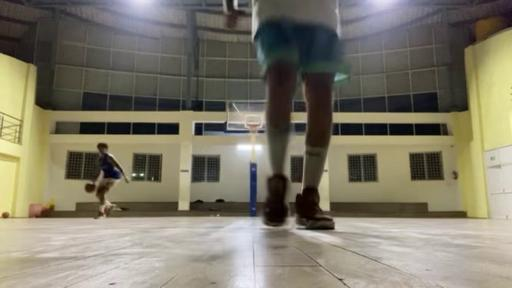ball: (86, 183, 94, 193), (2, 212, 10, 218)
human: (222, 0, 350, 230), (94, 142, 131, 218)
rim: (246, 124, 258, 134)
